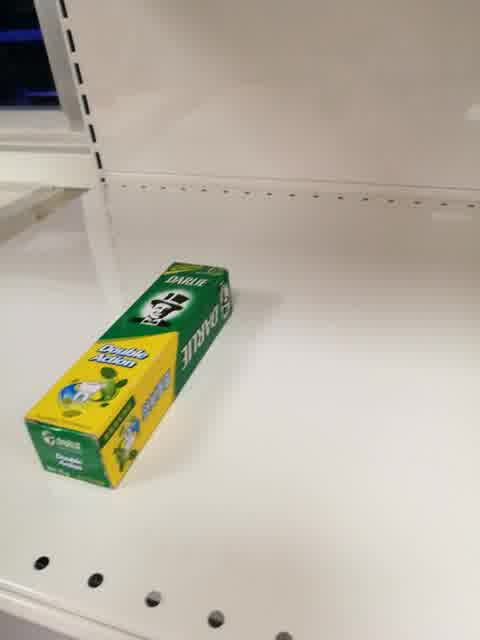toothpaste: (22, 261, 233, 490)
